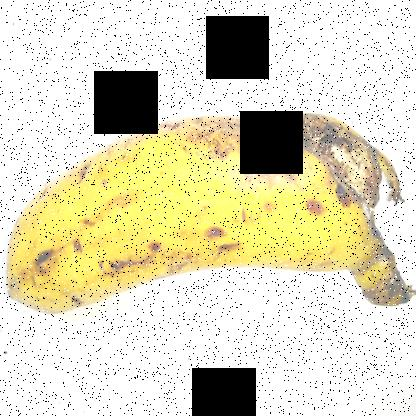ripe: (0, 98, 276, 329)
rotten: (246, 62, 415, 272)
